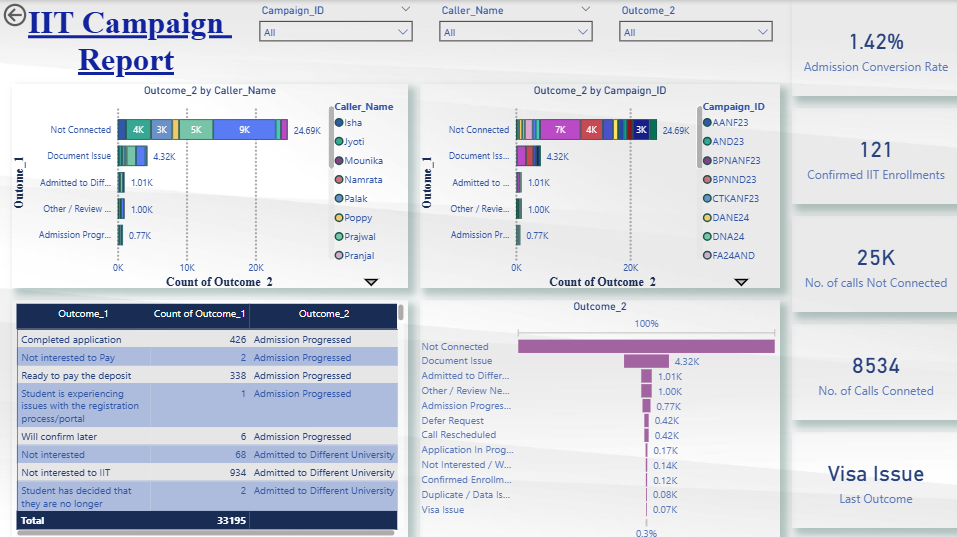

This screenshot's page, from the dashboard's own definition file:
{"tool":"powerbi","page":{"name":"Page 1","canvas":[1280,720],"ordinal":0},"visuals":[{"type":"image","box":[0,0,1280,720],"z":1000},{"type":"barChart","title":"Outcome_2 by Caller_Name","fields":{"Category":["OutreachData.Outcome_2"],"Y":["CountNonNull(OutreachData.Outcome_2)"],"Series":["OutreachData.Caller_Name"]},"box":[16,112,528,272],"z":2000},{"type":"tableEx","title":"Remarks","fields":{"Values":["OutreachData.Outcome_11","OutreachData.Outcome_1","OutreachData.Outcome_2"]},"box":[16,400,528,320],"z":3000},{"type":"funnel","title":"Outcome_2","fields":{"Category":["OutreachData.Outcome_2"],"Y":["CountNonNull(OutreachData.Outcome_2)"]},"box":[560,400,480,320],"z":4000},{"type":"slicer","fields":{"Values":["OutreachData.Caller_Name"]},"box":[576,0,224,112],"z":5000},{"type":"slicer","fields":{"Values":["OutreachData.Campaign_ID"]},"box":[336,0,224,112],"z":6000},{"type":"slicer","fields":{"Values":["OutreachData.Outcome_2"]},"box":[816,0,224,112],"z":7000},{"type":"actionButton","box":[0,0,100,40],"z":8000},{"type":"card","fields":{"Values":["OutreachData.InValidLeads"]},"box":[1056,288,224,128],"z":9000},{"type":"card","fields":{"Values":["Max(OutreachData.Outcome_2)"]},"box":[1056,576,224,128],"z":10000},{"type":"card","fields":{"Values":["OutreachData.Confirmed IIT Enrollments"]},"box":[1056,144,224,128],"z":11000},{"type":"card","fields":{"Values":["OutreachData.ValidLeads"]},"box":[1056,432,224,128],"z":12000},{"type":"card","fields":{"Values":["OutreachData.AdmissionRate"]},"box":[1056,0,224,128],"z":13000},{"type":"textbox","box":[0,0,336,112],"z":14000},{"type":"barChart","title":"Outcome_2 by Campaign_ID","fields":{"Category":["OutreachData.Outcome_2"],"Series":["OutreachData.Campaign_ID"],"Y":["CountNonNull(OutreachData.Outcome_2)"]},"box":[560,112,480,272],"z":14001}]}

Visuals, with their boxes in screenshot pixels (x1, y1, x2, y2), scaled from the page's 1280x720 canvas onto the 957x537 screenshot:
image: x1=0, y1=0, x2=956, y2=536
"Outcome_2 by Caller_Name" barChart: x1=12, y1=84, x2=407, y2=286
"Remarks" tableEx: x1=12, y1=298, x2=407, y2=536
"Outcome_2" funnel: x1=419, y1=298, x2=778, y2=536
slicer - OutreachData.Caller_Name: x1=431, y1=0, x2=598, y2=84
slicer - OutreachData.Campaign_ID: x1=251, y1=0, x2=419, y2=84
slicer - OutreachData.Outcome_2: x1=610, y1=0, x2=778, y2=84
actionButton: x1=0, y1=0, x2=75, y2=30
card - OutreachData.InValidLeads: x1=790, y1=215, x2=956, y2=310
card - Max(OutreachData.Outcome_2): x1=790, y1=430, x2=956, y2=525
card - OutreachData.Confirmed IIT Enrollments: x1=790, y1=107, x2=956, y2=203
card - OutreachData.ValidLeads: x1=790, y1=322, x2=956, y2=418
card - OutreachData.AdmissionRate: x1=790, y1=0, x2=956, y2=95
textbox: x1=0, y1=0, x2=251, y2=84
"Outcome_2 by Campaign_ID" barChart: x1=419, y1=84, x2=778, y2=286
